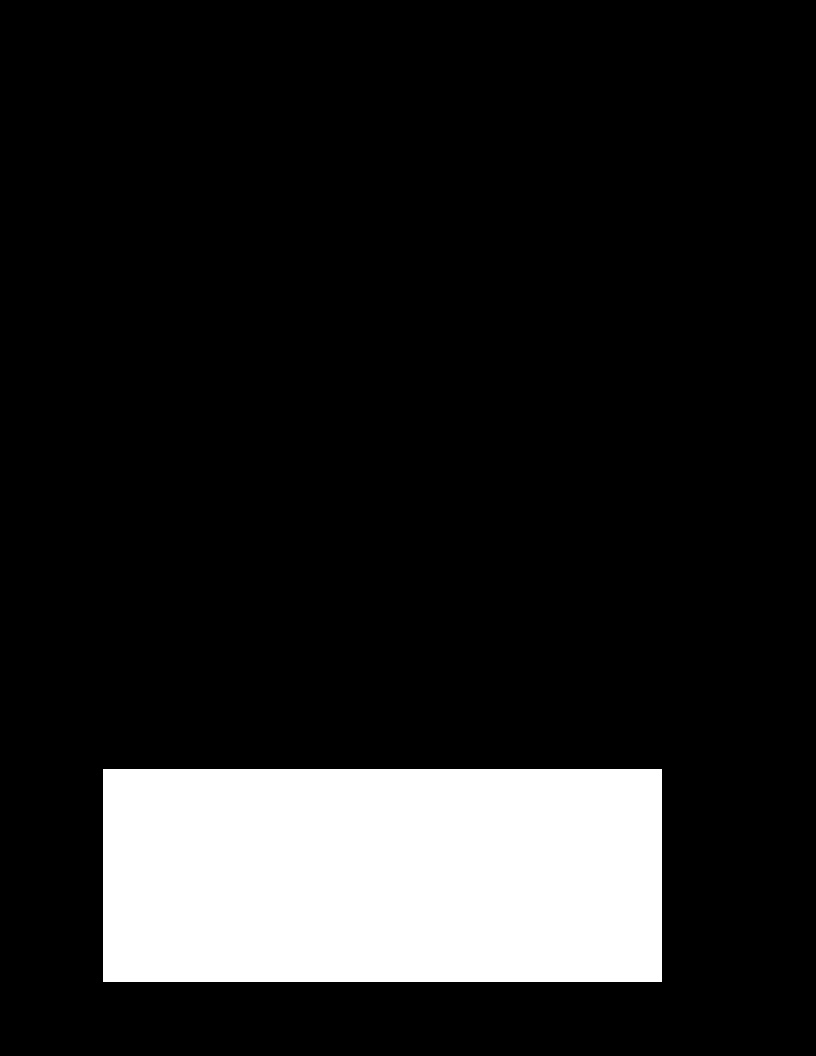table: (103, 769, 661, 981)
